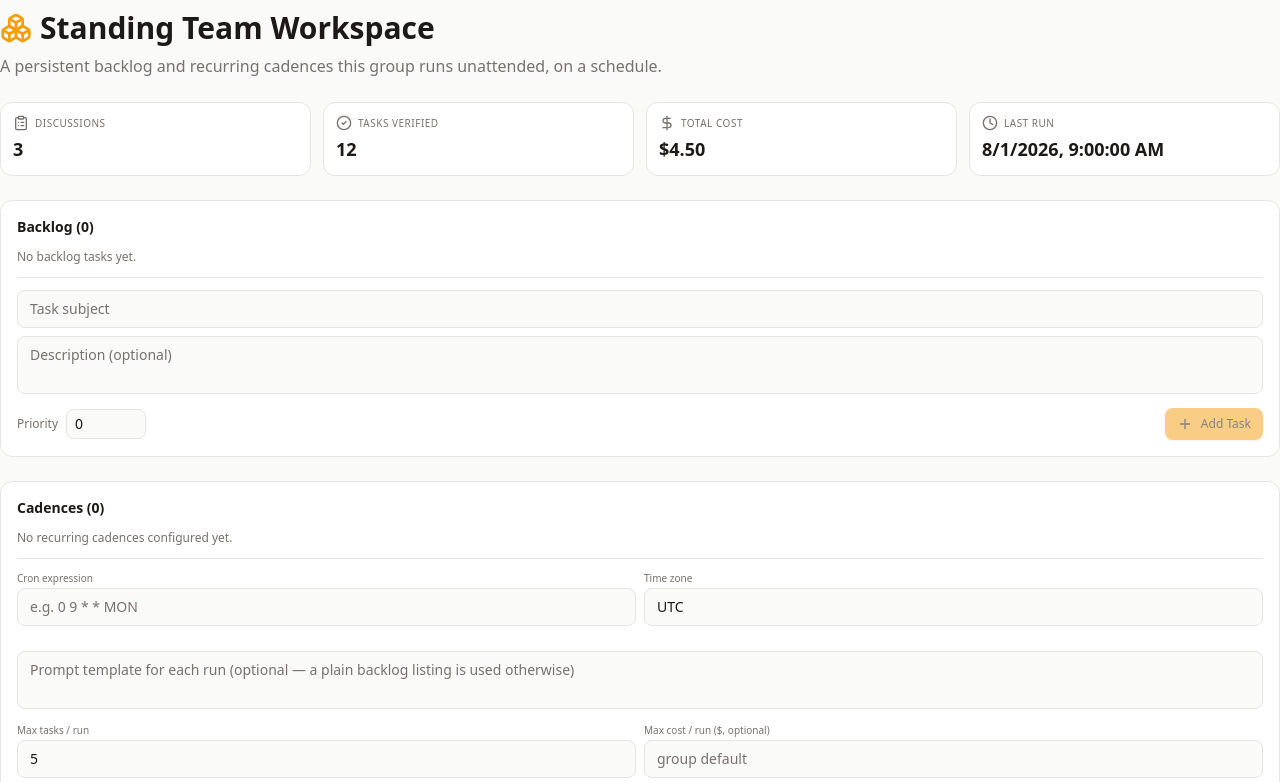
Test: GroupWorkspacePage › refuses a negative max cost per run instead of sending it
Type "0 9 * * MON" into the field with test id "workspace-cron-input" at x=326, y=607, box [17,588,636,626]
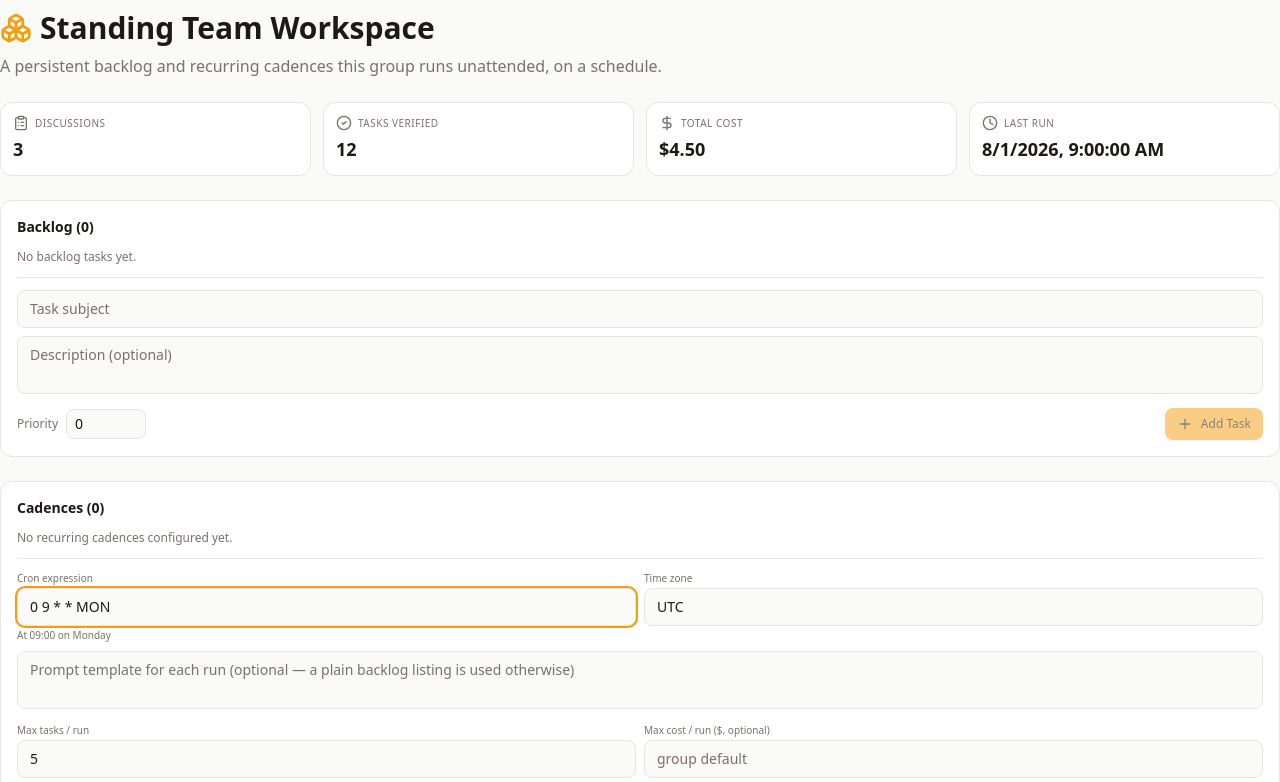
Type "-5" into the number field with test id "workspace-max-cost" at x=954, y=759, box [644,740,1263,778]
(page scrolled)
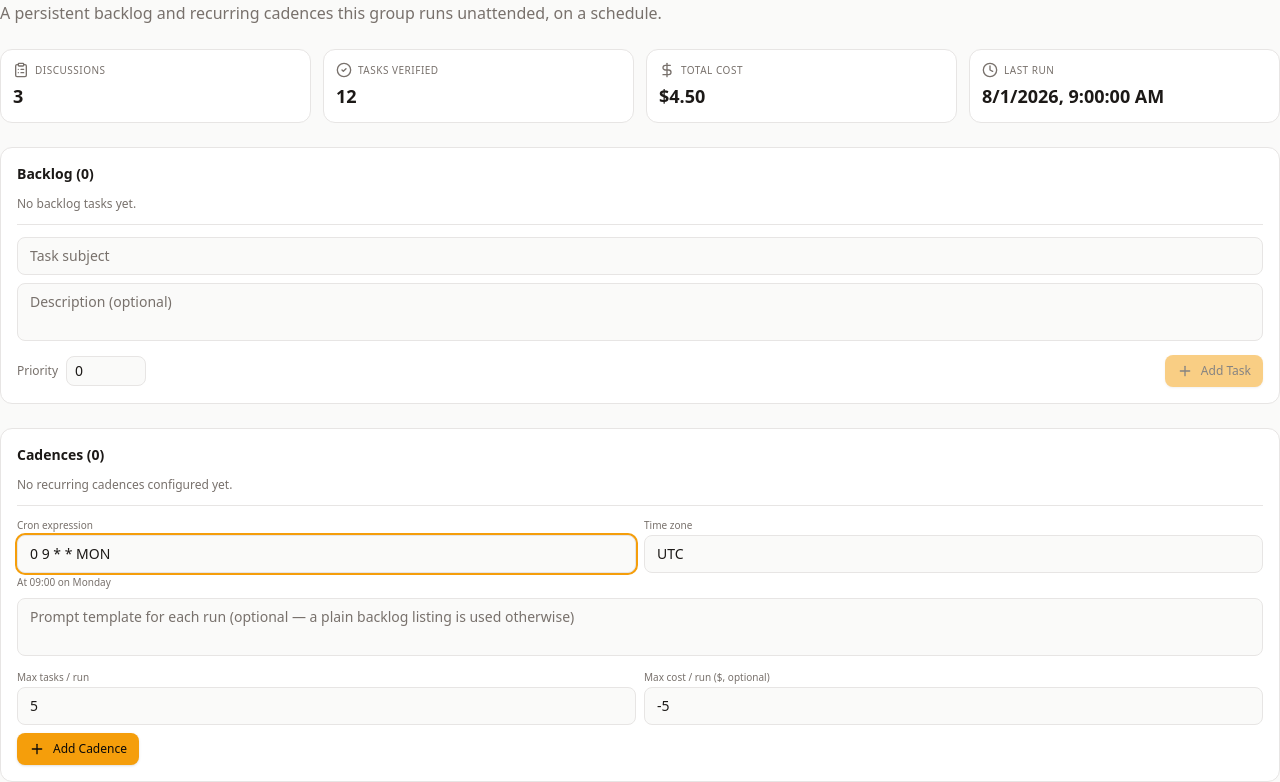
Click the button with test id "workspace-add-cadence" at x=78, y=749, box [17,733,139,765]
(page scrolled)
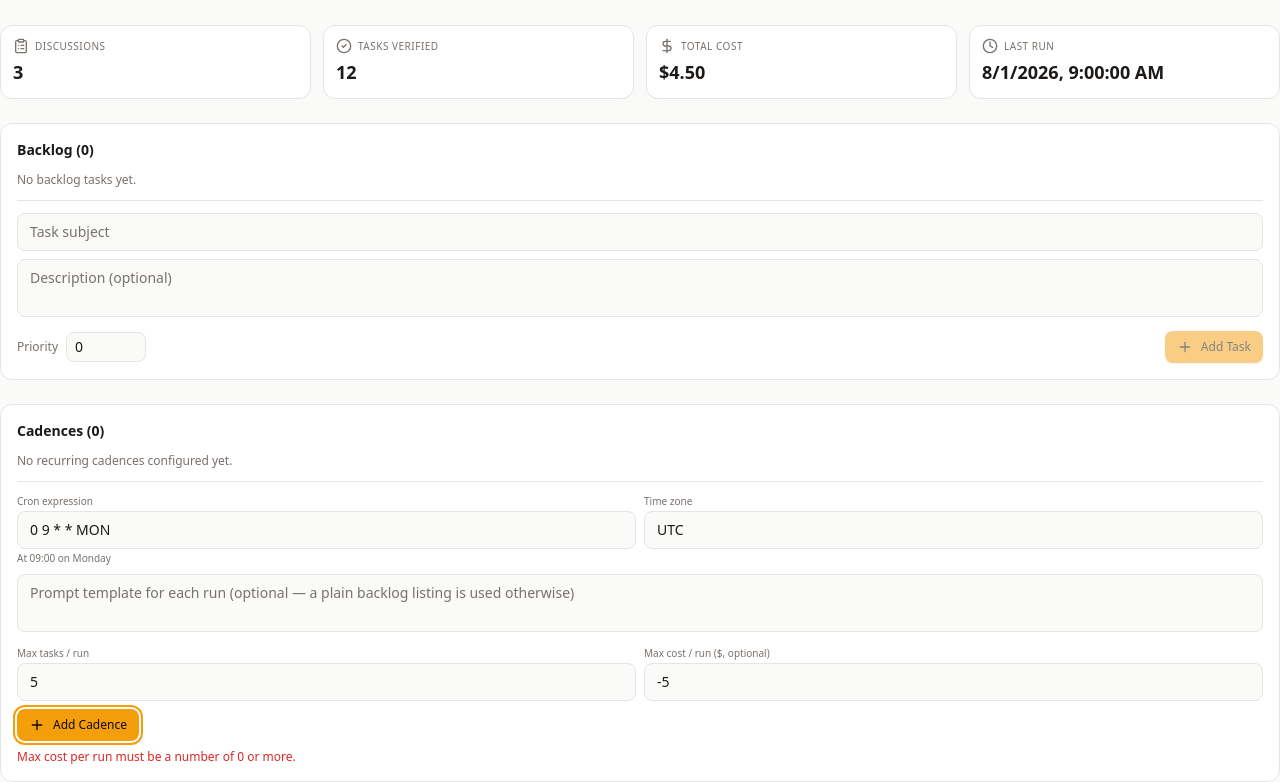
Now the text with test id "workspace-cadence-error" shows "0 or more", box [17,748,296,765]
